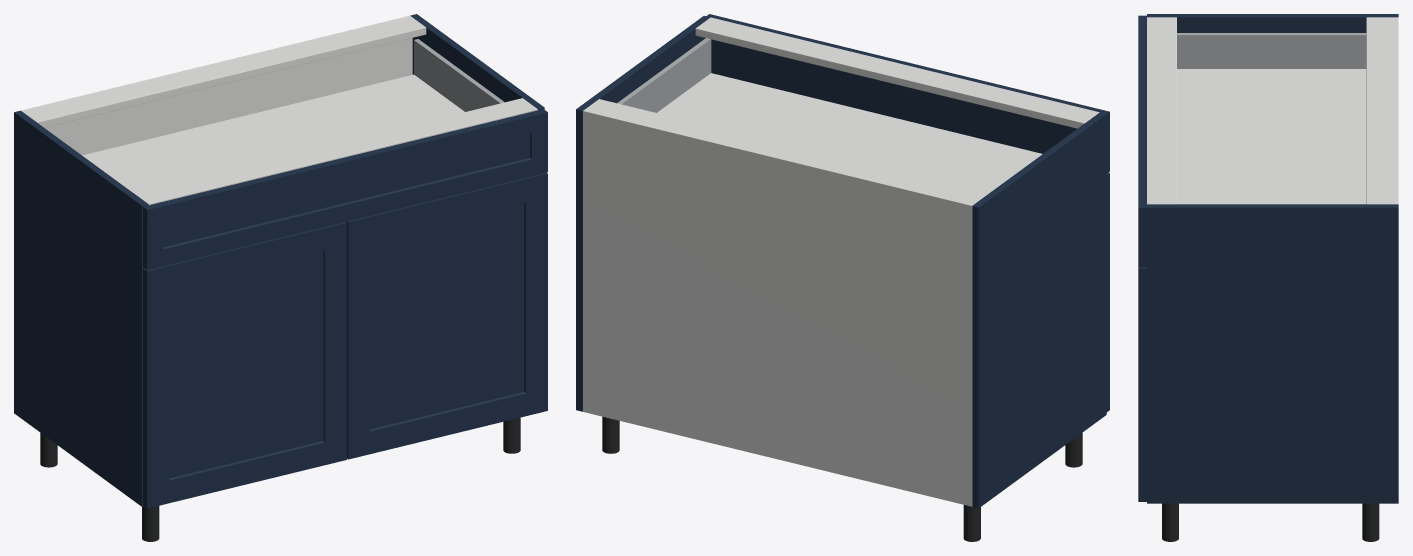
The model's file is oppein-pb-bss-b42.glb.
The picture shows the model from 3 angles, left to right: view 1: azimuth 30°, elevation 25°; view 2: azimuth 150°, elevation 25°; view 3: azimuth 270°, elevation 25°; orthographic projection.
Visible parts, largest first — view 1: Door, Door.001, Cabinet side, Drawer front, Drawer floor, Cabinet back, Top support rail, Top support rail.001, Drawer side.001, Cabinet side.001; view 2: Cabinet back, Cabinet side, Drawer floor, Drawer front, Top support rail.001, Top support rail, Cabinet side.001, Drawer side.001, Cabinet bottom, Door, Adjustable foot, Adjustable foot.002; view 3: Cabinet side.001, Drawer floor, Drawer side, Top support rail.001, Top support rail, Cabinet side, Drawer front, Door.001, Cabinet back, Adjustable foot.002, Adjustable foot.003.
Boxes of the visible parts, x1,y1,x2,y2 form: Door: (143,221,346,508); Door.001: (346,172,547,459); Cabinet side: (14,110,148,506); Drawer front: (143,109,547,269); Drawer floor: (82,74,464,192); Cabinet back: (21,15,412,155); Top support rail: (23,17,426,127); Top support rail.001: (133,98,537,205); Drawer side.001: (414,39,504,111); Cabinet side.001: (410,14,544,110); Cabinet back: (583,109,974,506); Cabinet side: (972,112,1106,508); Drawer floor: (657,73,1042,193); Drawer front: (706,14,1109,173); Top support rail.001: (695,17,1099,128); Top support rail: (586,99,987,203); Cabinet side.001: (576,16,710,411); Drawer side.001: (617,38,711,112); Cabinet bottom: (593,408,971,505); Door: (1106,173,1109,412); Adjustable foot: (963,505,980,541); Adjustable foot.002: (602,416,619,453); Cabinet side.001: (1147,204,1398,503); Drawer floor: (1177,69,1366,204); Drawer side: (1177,33,1366,68); Top support rail.001: (1147,17,1176,204); Top support rail: (1366,17,1393,204); Cabinet side: (1147,14,1398,32); Drawer front: (1138,15,1146,267); Door.001: (1138,267,1146,501); Cabinet back: (1393,17,1398,204); Adjustable foot.002: (1362,503,1379,541); Adjustable foot.003: (1162,503,1178,541).
Size of the model in its own units: 1.07 by 0.8763 by 0.6064.
